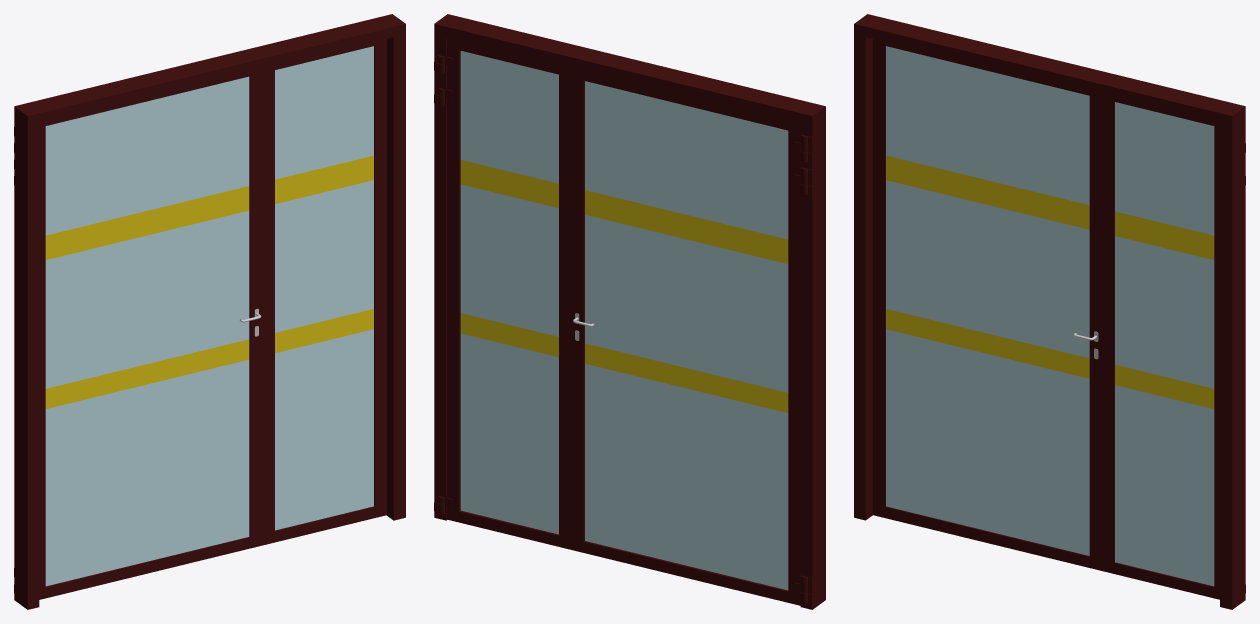
The model's file is Stairscase Doors.fbx.
3 renders of one model, left to right at view 1: azimuth 30°, elevation 25°; view 2: azimuth 150°, elevation 25°; view 3: azimuth 330°, elevation 25°, orthographic.
Visible parts, largest first — view 1: DoorWing0P.002, DoorWing0L.003, DoorFrame0.002; view 2: DoorWing0P.002, DoorWing0L.003, DoorFrame0.002; view 3: DoorWing0P.002, DoorWing0L.003, DoorFrame0.002.
Part boxes in pixels (box(x1,y1,x2,y2)): DoorWing0P.002: box(39, 69, 262, 599); DoorWing0L.003: box(262, 39, 386, 545); DoorFrame0.002: box(14, 14, 405, 609); DoorWing0P.002: box(571, 67, 807, 605); DoorWing0L.003: box(438, 37, 571, 549); DoorFrame0.002: box(434, 14, 825, 609); DoorWing0P.002: box(873, 39, 1101, 570); DoorWing0L.003: box(1102, 94, 1219, 599); DoorFrame0.002: box(854, 14, 1245, 609).
Bounding box in the file's own units: 164 × 204 × 13.31.
